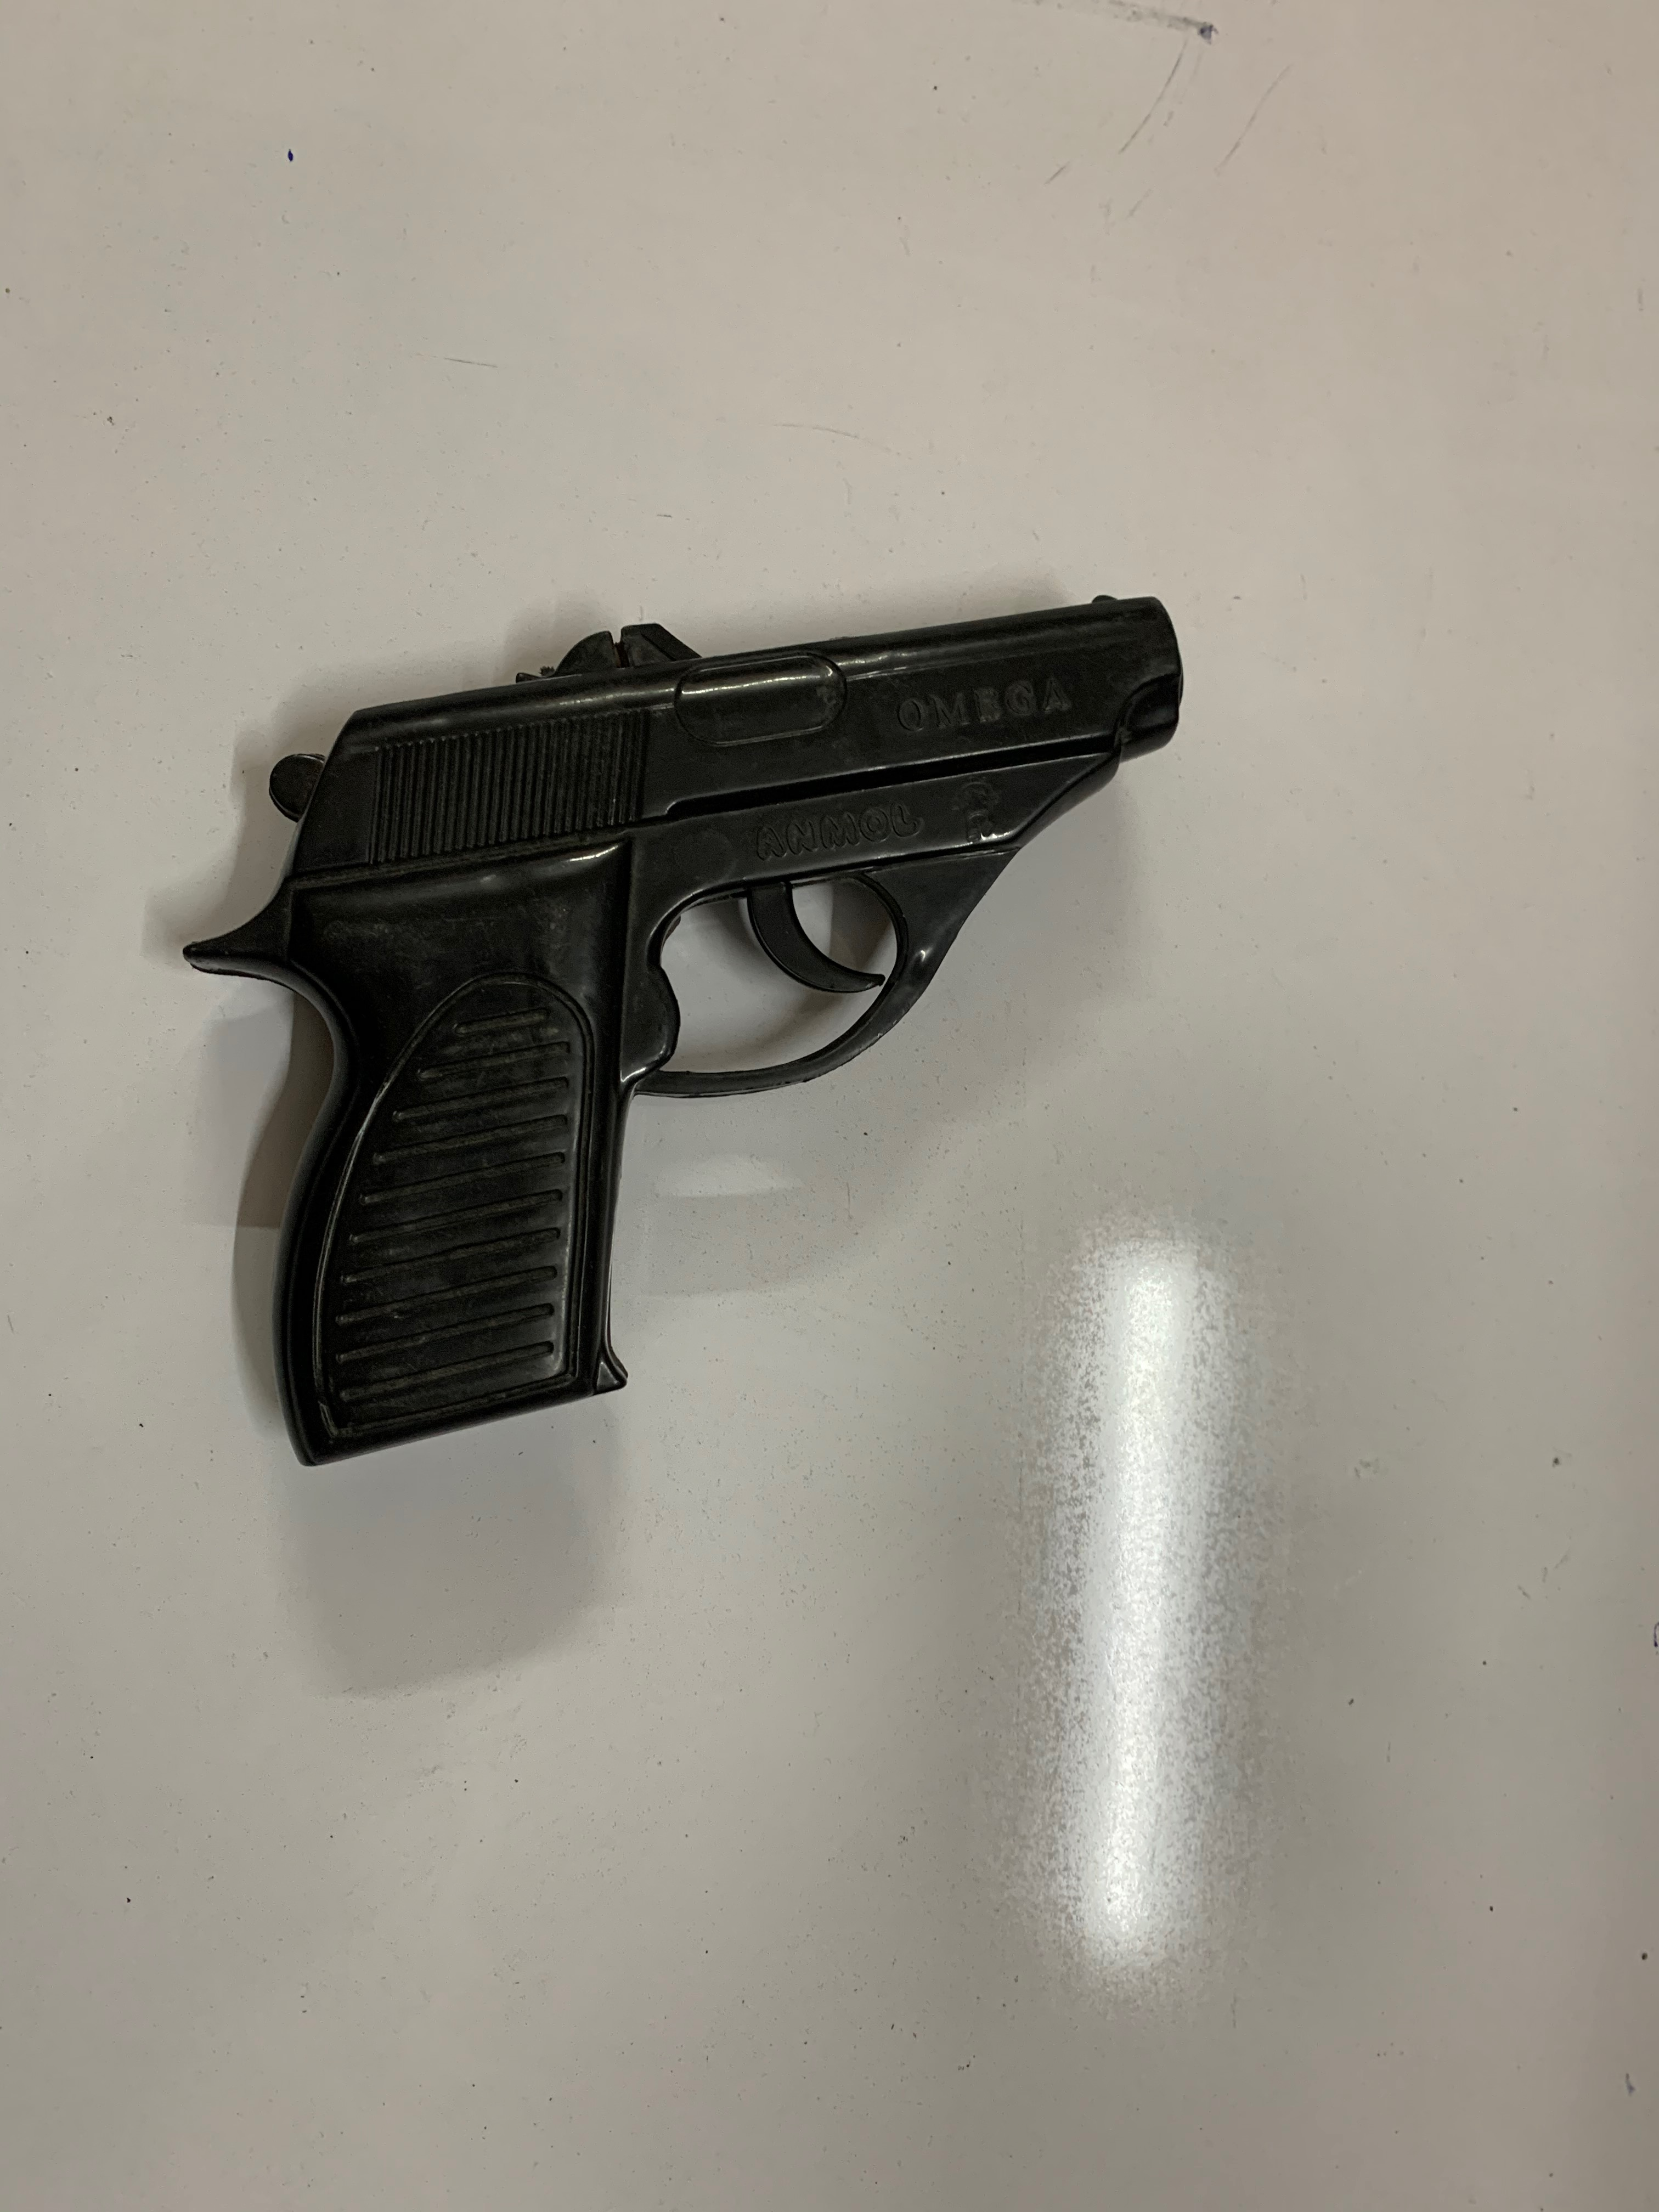gun: (174, 583, 1188, 1472)
